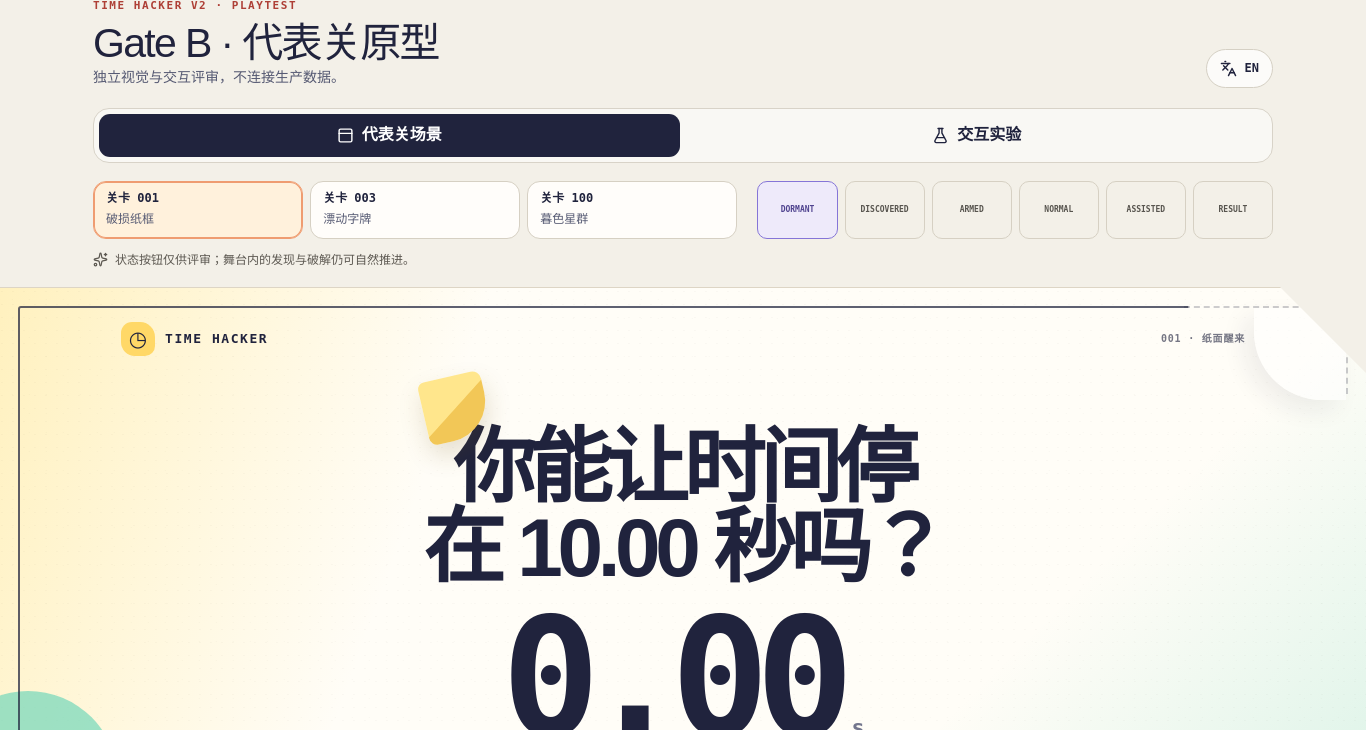
it: Gate B prototype lab › contains all required and sampled high-risk interaction spikes
Click the button "交互实验" at coordinates (977, 136), box [686, 114, 1267, 157]
(page scrolled)
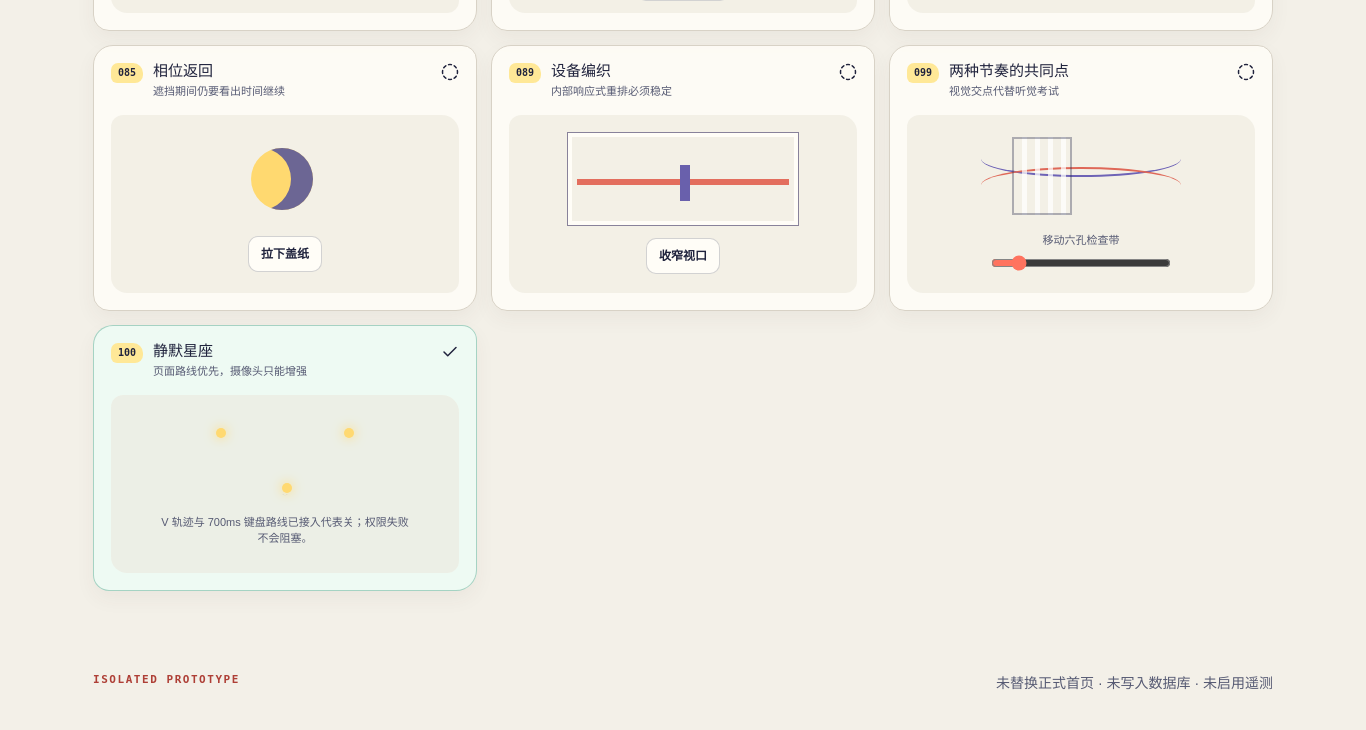
Expected: the element with test id "spike-089" is shown, [491, 45, 875, 311]
